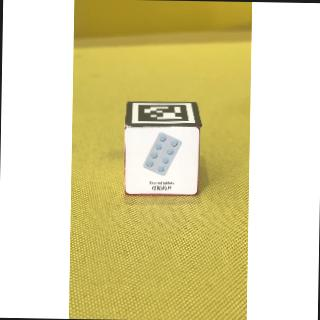Tablet: (124, 127, 203, 196)
